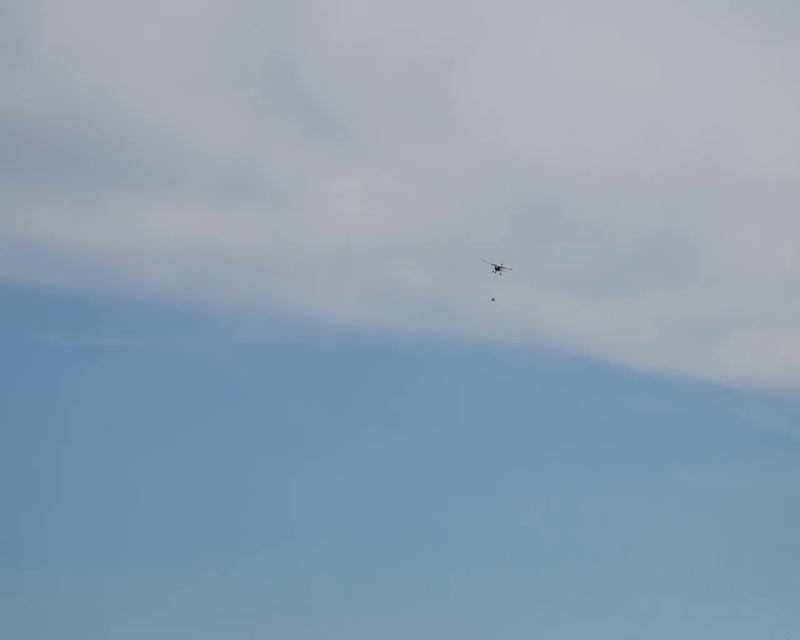UAV: (483, 257, 515, 276)
